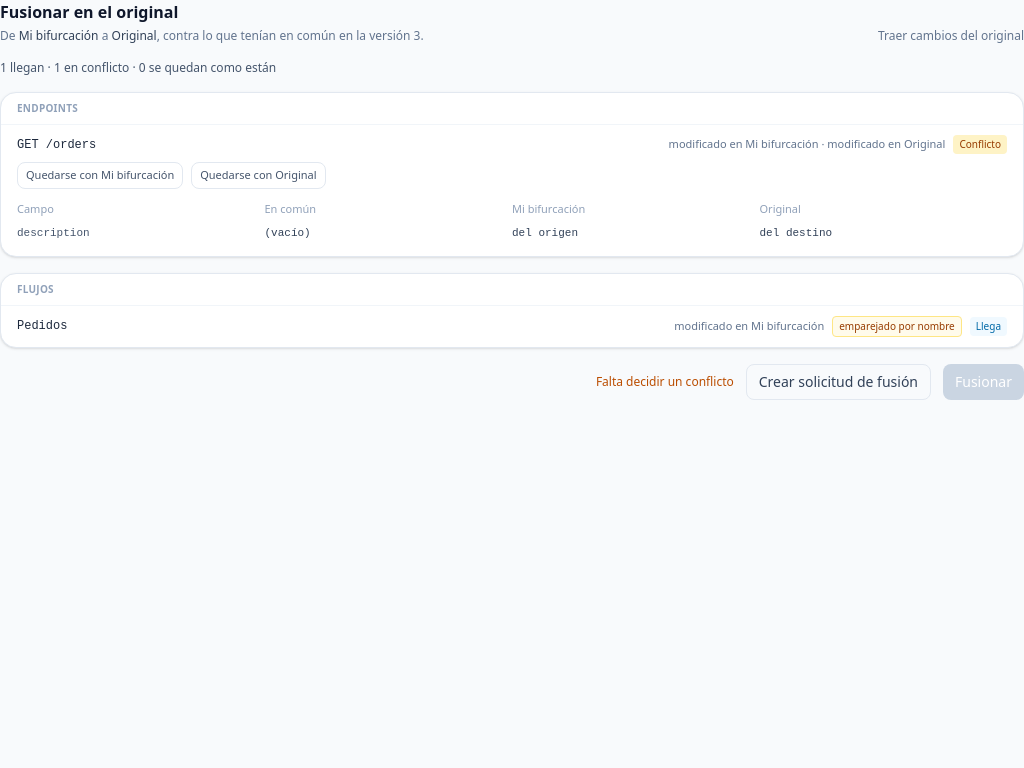
Test: ForkSyncPage › en vez de fusionar, se crea una solicitud y se abre en el original
The width and height of the screenshot is (1024, 768).
Click the button "Crear solicitud de fusión": {"x": 838, "y": 382} [746, 364, 931, 400]
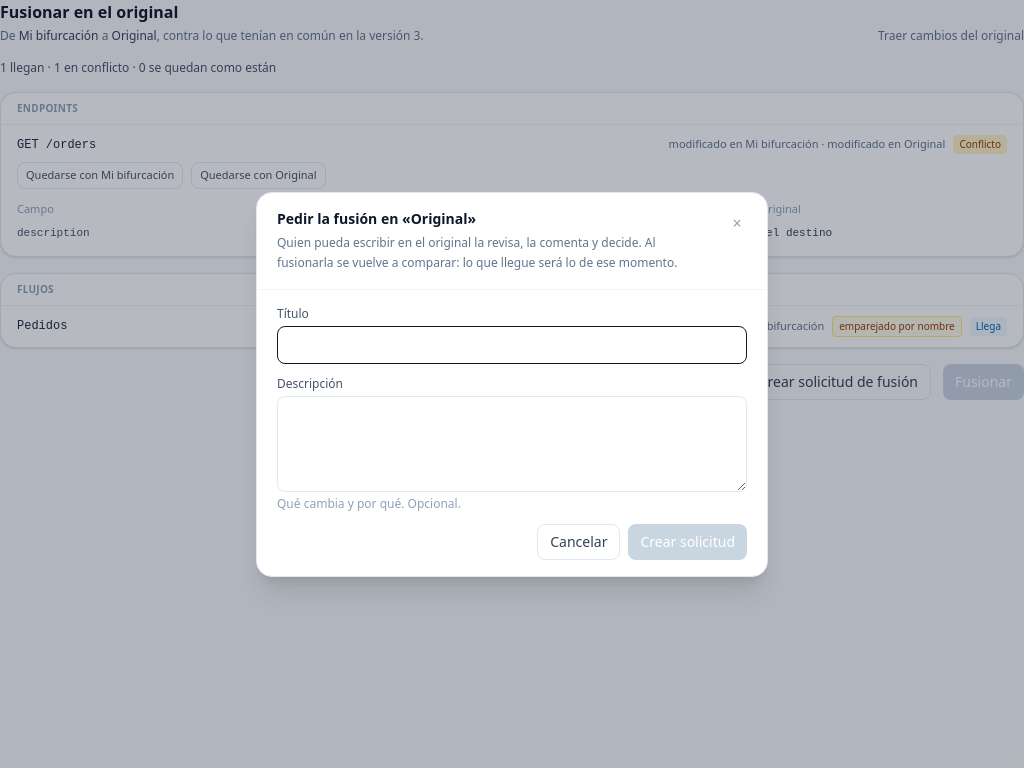
expect the heading "Pedir la fusión en «Original»" is shown: met, box [277, 208, 476, 228]
expect the button "Crear solicitud" is disabled: met, box [628, 524, 747, 560]
In the field labelled "Título": {"x": 512, "y": 344} [277, 326, 747, 364], type "  Describir pedidos "
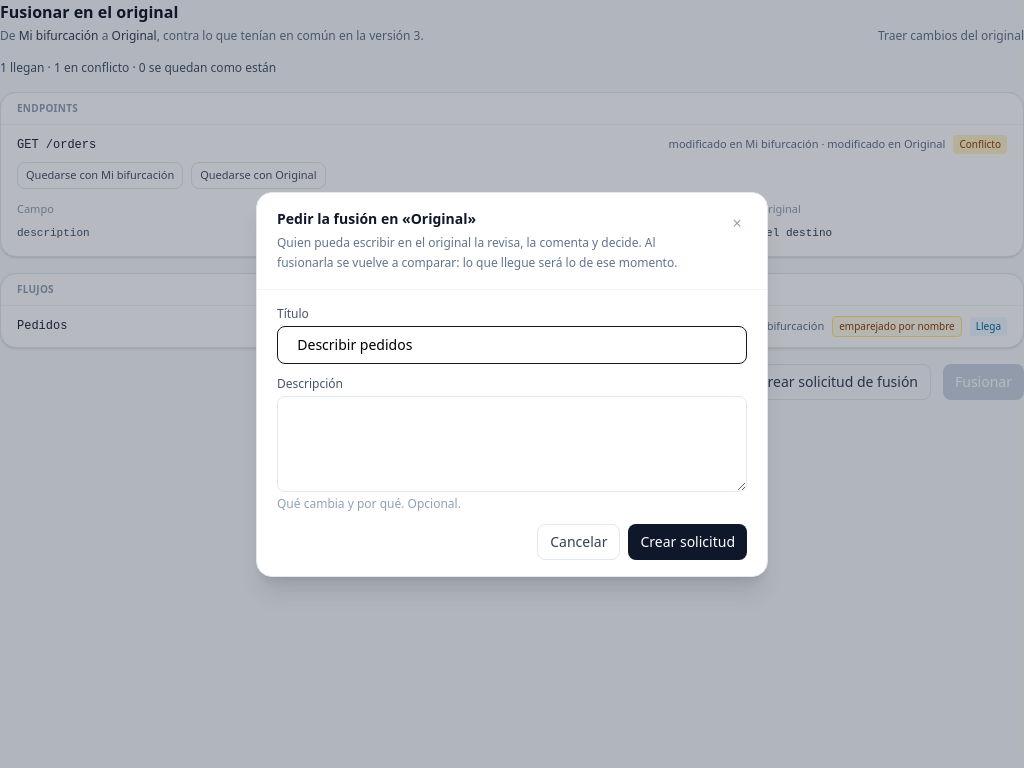
In the text box labelled "Descripción Qué cambia y por qué. Opcional.": {"x": 512, "y": 444} [277, 396, 747, 492], type "Para pagos"
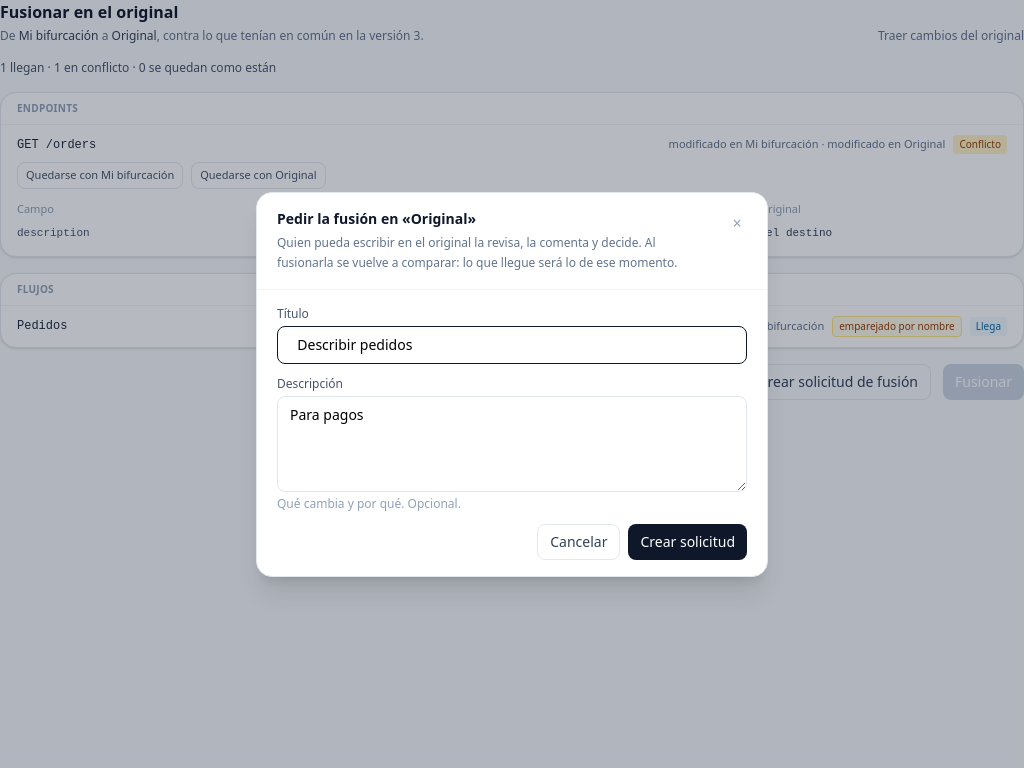
Click the button "Crear solicitud": {"x": 688, "y": 542} [628, 524, 747, 560]
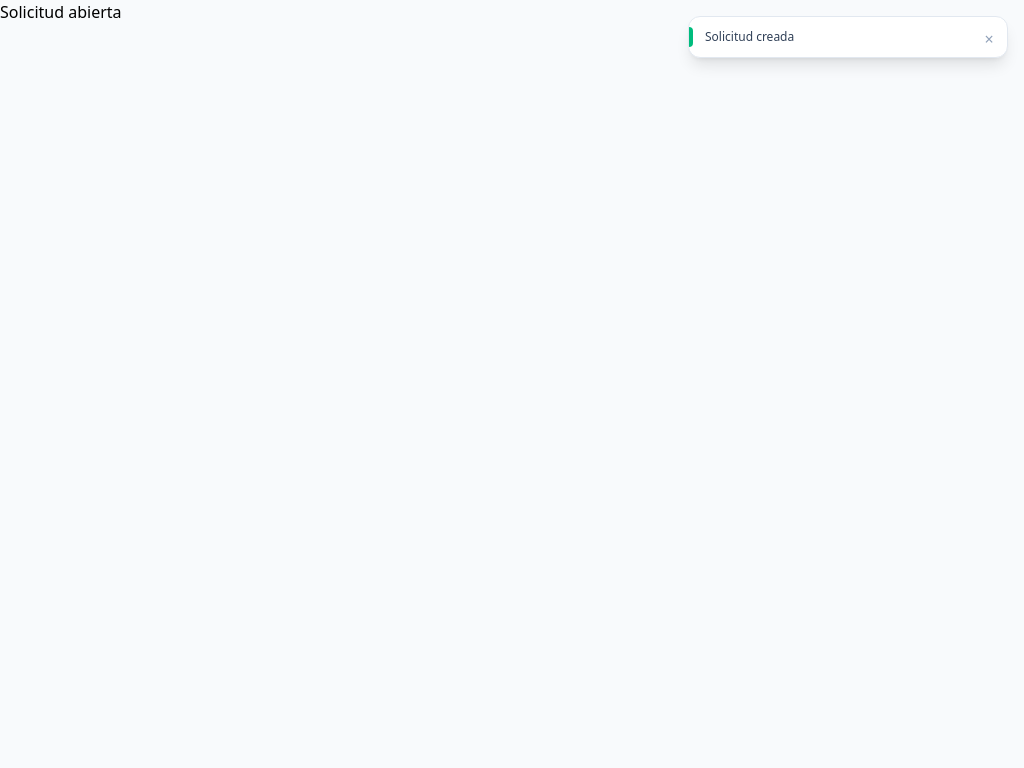
expect the text "Solicitud abierta" is shown: met, box [0, 1, 122, 23]
